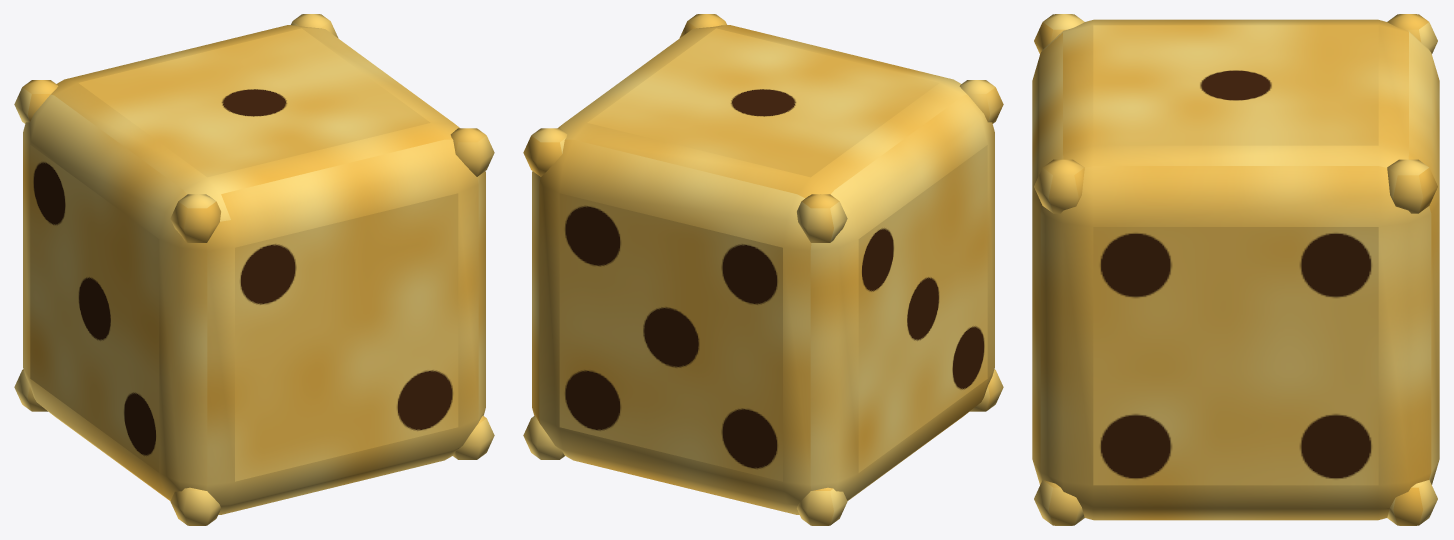
Rendered from Die_Lucky.fbx.
3 views of the same model, side by side, from view 1: azimuth 30°, elevation 25°; view 2: azimuth 150°, elevation 25°; view 3: azimuth 270°, elevation 25° (orthographic). The views are drawn at different scales.
Parts seen in each view (by area): view 1: Die_Lucky; view 2: Die_Lucky; view 3: Die_Lucky.
Part boxes in pixels (<box>): Die_Lucky: <box>14,14,494,525</box>; Die_Lucky: <box>523,14,1003,525</box>; Die_Lucky: <box>1032,14,1439,525</box>.
Size of the model in its own units: 0.3 by 0.3 by 0.3.
1 material, 1 textured.
